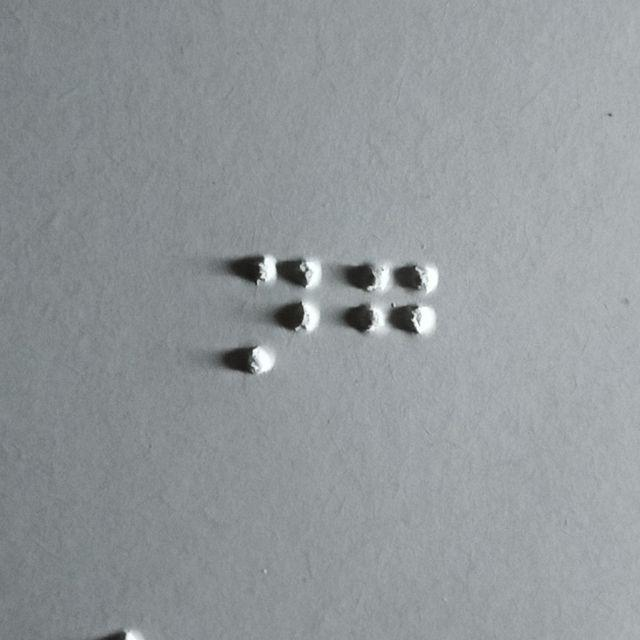g: (355, 261, 434, 385)
n: (238, 253, 317, 377)
